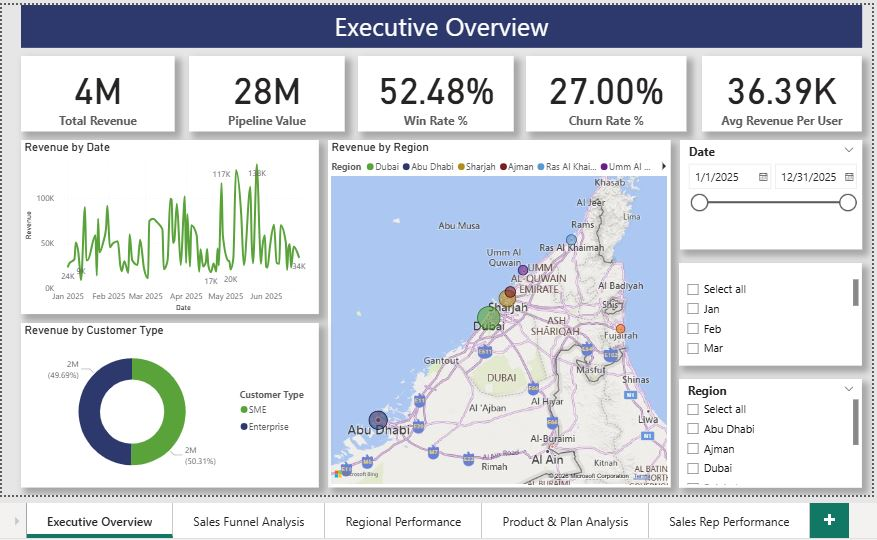

The page's visual inventory and layout, read from the dashboard file:
{"tool":"powerbi","page":{"name":"Executive Overview","canvas":[1280,720],"ordinal":0},"visuals":[{"type":"card","fields":{"Values":["All Measures.Total Revenue"]},"box":[27.4,74.9,226.1,110.9],"z":0},{"type":"card","fields":{"Values":["All Measures.Pipeline Value"]},"box":[275,74.9,229,110.9],"z":1000},{"type":"card","fields":{"Values":["All Measures.Win Rate %"]},"box":[524.2,74.9,229,110.9],"z":2000},{"type":"card","fields":{"Values":["All Measures.Churn Rate %"]},"box":[770.4,74.9,236.2,110.9],"z":3000},{"type":"card","fields":{"Values":["All Measures.Avg Revenue Per User"]},"box":[1029.6,74.9,234.7,110.9],"z":4000},{"type":"lineChart","fields":{"Category":["Date_Table.Date"],"Y":["All Measures.Total Revenue"]},"box":[27.4,198.7,437.8,256.3],"z":5000},{"type":"map","title":"Revenue by Region","fields":{"Size":["All Measures.Total Revenue"],"Series":["Region.Region"],"Category":["Region.Region"]},"box":[479.5,198.7,504,511.2],"z":6000},{"type":"donutChart","title":"Revenue by Customer Type","fields":{"Y":["All Measures.Total Revenue"],"Category":["Sales_Pipeline.Customer_Type"]},"box":[27.4,468,437.8,241.9],"z":7000},{"type":"slicer","fields":{"Values":["Date_Table.Month"]},"box":[995,378.7,269.3,151.2],"z":8000},{"type":"slicer","fields":{"Values":["Date_Table.Date"]},"box":[996.5,198.7,267.8,161.3],"z":9000},{"type":"textbox","box":[27.4,0,1237,63.4],"z":10000},{"type":"slicer","fields":{"Values":["Region.Region"]},"box":[995,550.1,269.3,159.8],"z":11000}]}

Visuals, with their boxes in screenshot pixels (x1, y1, x2, y2):
card - All Measures.Total Revenue: 21, 53, 174, 128
card - All Measures.Pipeline Value: 188, 53, 343, 128
card - All Measures.Win Rate %: 356, 53, 511, 128
card - All Measures.Churn Rate %: 523, 53, 682, 128
card - All Measures.Avg Revenue Per User: 698, 53, 857, 128
lineChart - Date_Table.Date x All Measures.Total Revenue: 21, 137, 317, 310
"Revenue by Region" map: 326, 137, 667, 482
"Revenue by Customer Type" donutChart: 21, 318, 317, 482
slicer - Date_Table.Month: 675, 258, 857, 360
slicer - Date_Table.Date: 676, 137, 857, 246
textbox: 21, 2, 857, 45
slicer - Region.Region: 675, 374, 857, 482
